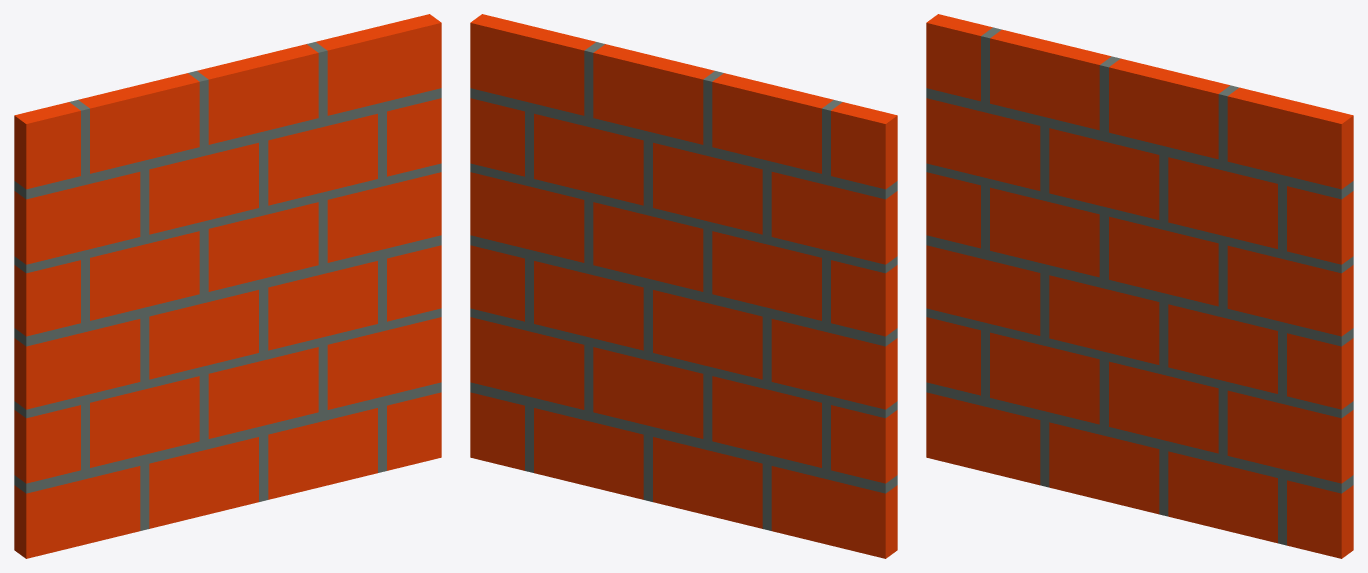
File: Wall_Brick_01.fbx
The picture shows the model from 3 angles, left to right: view 1: azimuth 30°, elevation 25°; view 2: azimuth 150°, elevation 25°; view 3: azimuth 330°, elevation 25°; orthographic projection.
Parts seen in each view (by area): view 1: Wall_Brick_01; view 2: Wall_Brick_01; view 3: Wall_Brick_01.
Boxes of the visible parts, bbox=[...] form: Wall_Brick_01: bbox=[14, 14, 441, 558]; Wall_Brick_01: bbox=[470, 14, 897, 558]; Wall_Brick_01: bbox=[926, 14, 1353, 558].
Bounding box in the file's own units: 4 × 4 × 0.2.
